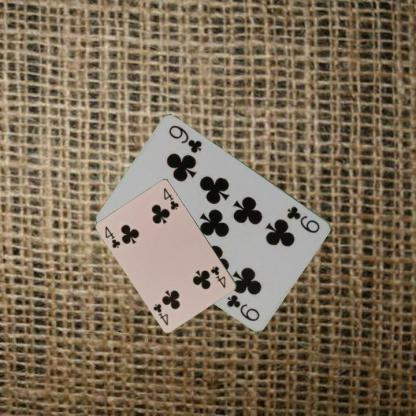4c: (102, 224, 122, 250), (208, 264, 227, 290)
9c: (284, 204, 322, 235)
